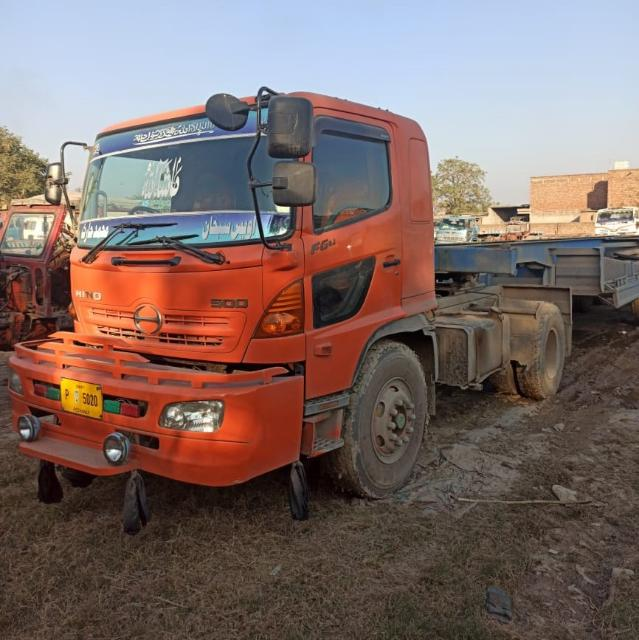plate: (55, 375, 105, 425)
